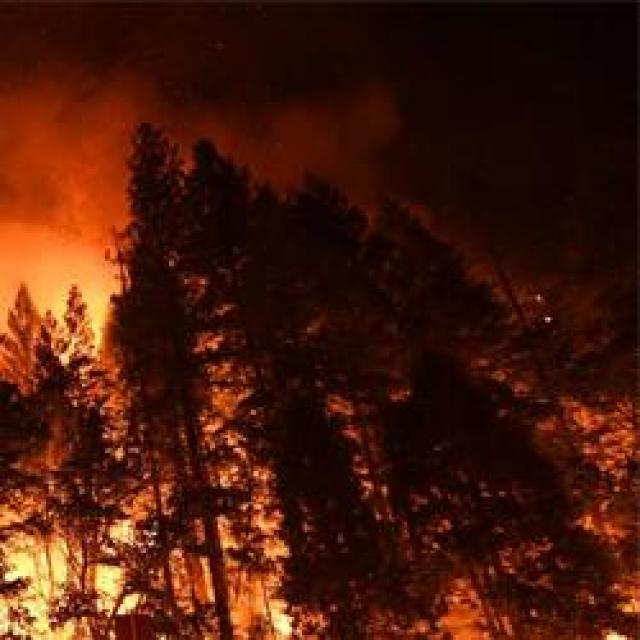fire: (0, 438, 299, 640)
